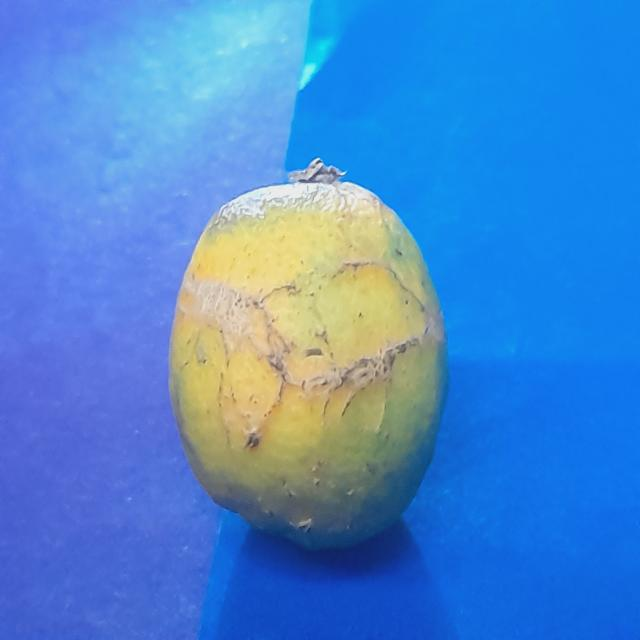thrips: (165, 170, 454, 538)
